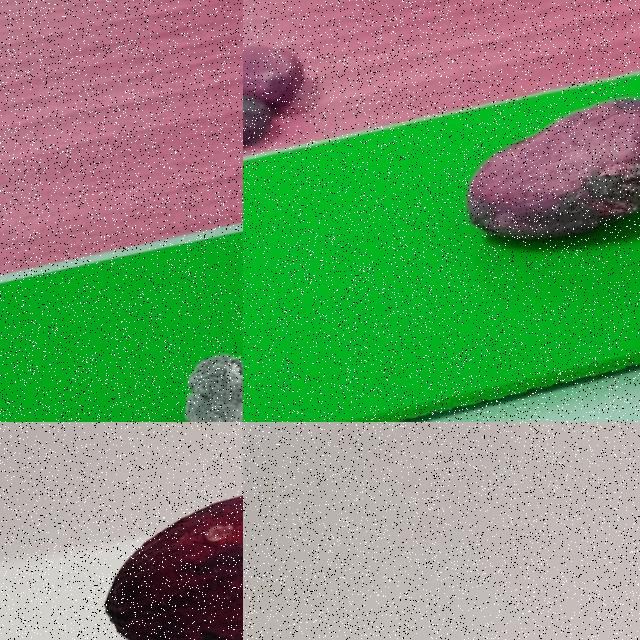Agglomerated_cocoabeans: (83, 261, 242, 421)
Fine_cocoabeans: (446, 51, 639, 318), (58, 438, 242, 639)
